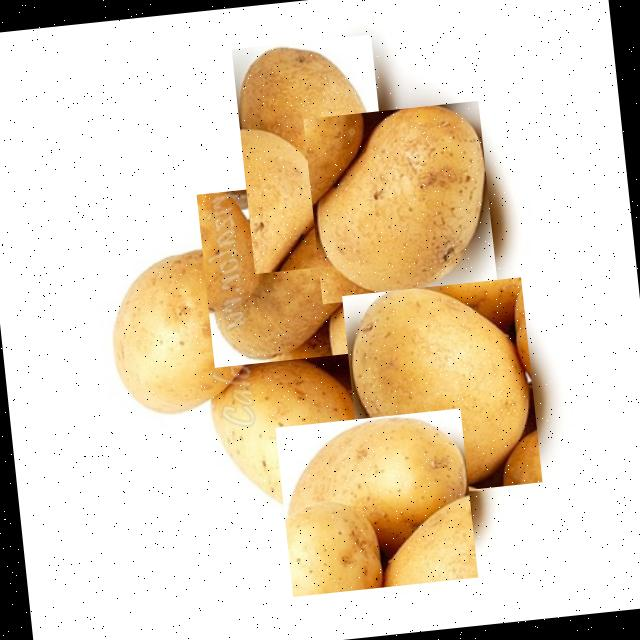Potato: (340, 276, 542, 500), (302, 100, 496, 304), (230, 35, 393, 274), (274, 408, 477, 596), (196, 176, 384, 368), (204, 320, 376, 522), (101, 243, 280, 420)
